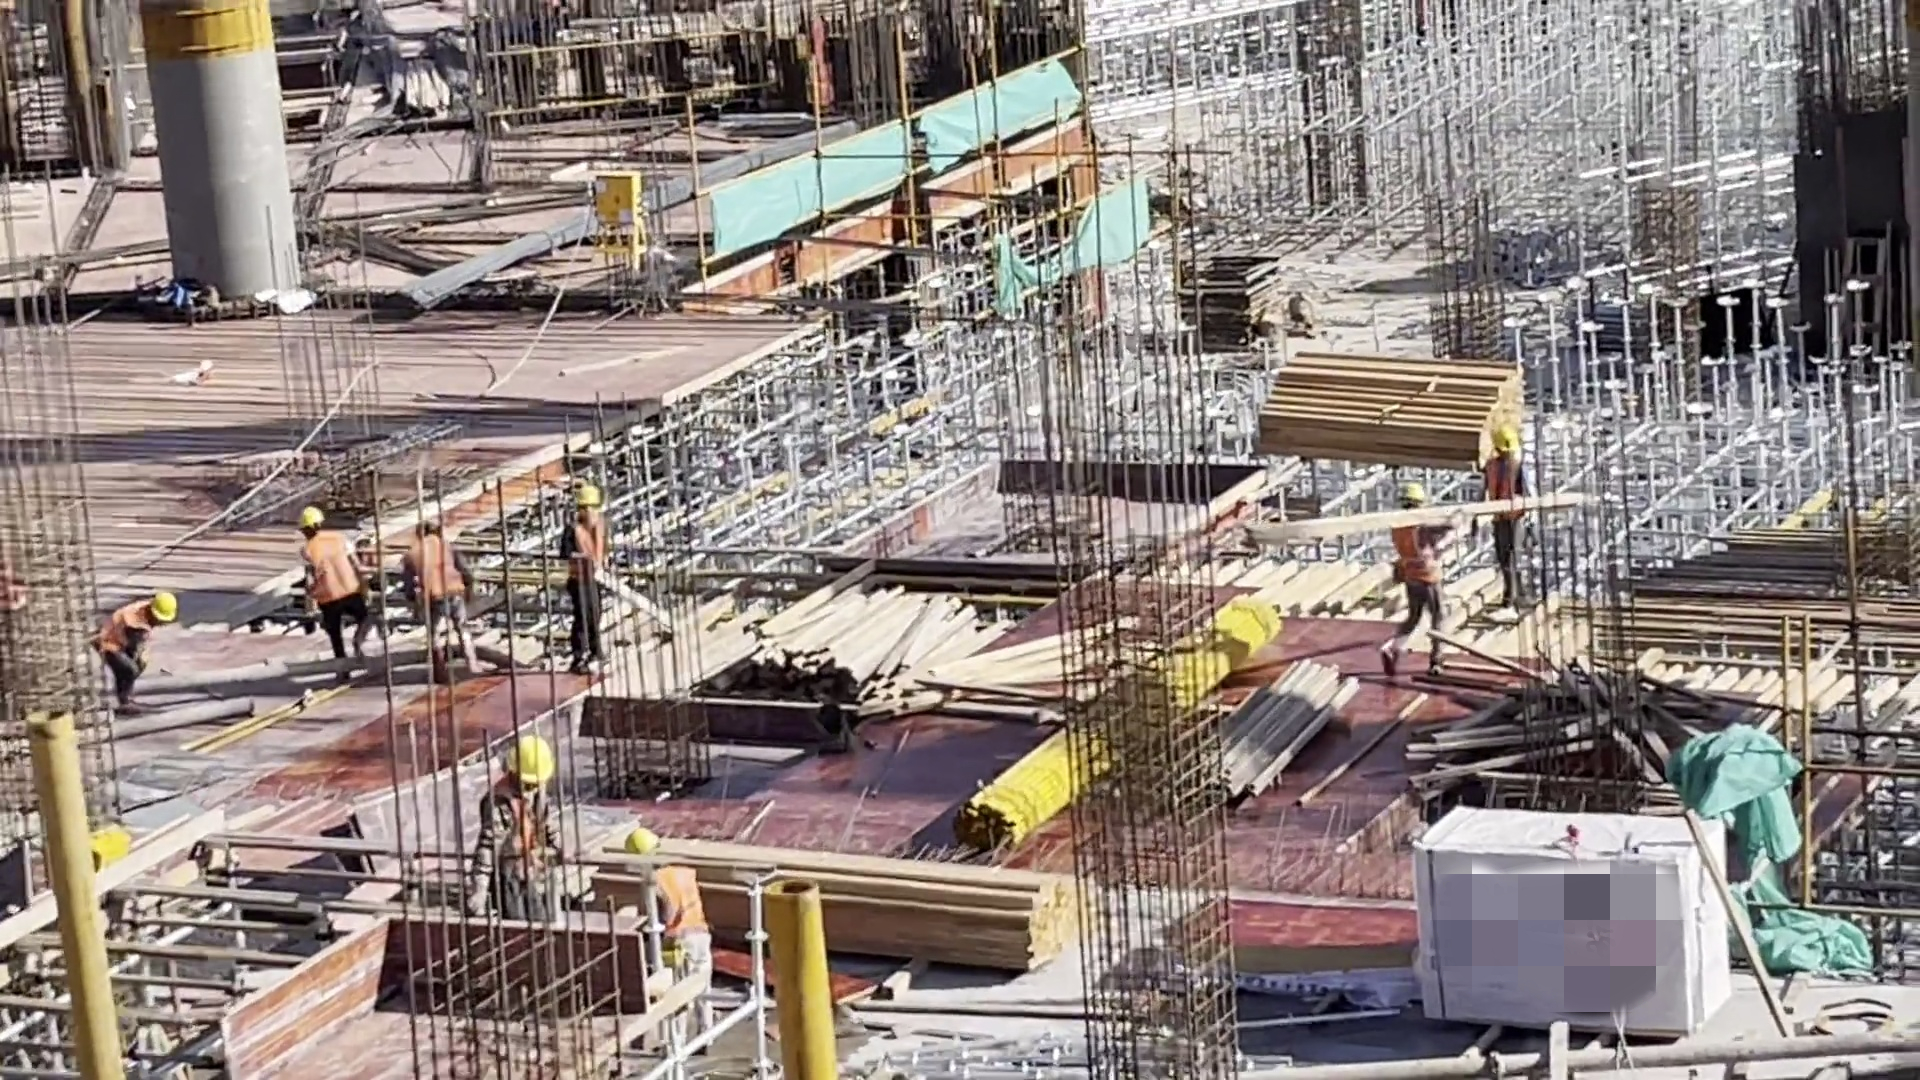ebox: (578, 169, 657, 264)
helmet: (499, 728, 563, 786), (611, 823, 671, 866), (142, 587, 183, 627), (565, 476, 602, 506), (290, 498, 326, 530), (416, 504, 451, 534), (1486, 419, 1526, 445), (1388, 483, 1429, 503)
person: (608, 831, 722, 1049), (450, 733, 562, 928), (260, 513, 387, 678), (1371, 482, 1456, 675), (394, 513, 483, 678), (80, 592, 182, 717), (551, 479, 612, 670), (1467, 437, 1532, 611)
vest: (487, 788, 562, 876), (399, 528, 481, 606), (634, 872, 709, 949), (80, 602, 149, 661), (1395, 516, 1453, 576), (294, 537, 354, 595), (565, 508, 615, 566), (1480, 462, 1527, 520)
wood: (1257, 352, 1517, 467)
